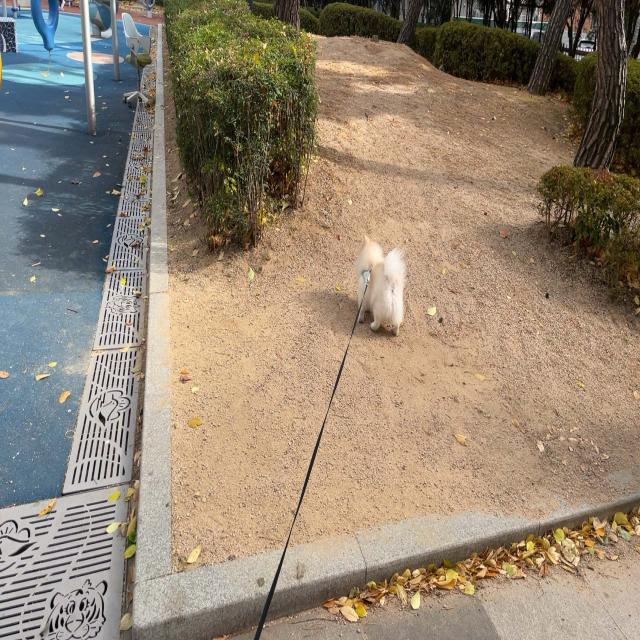Dog: (355, 236, 406, 338)
